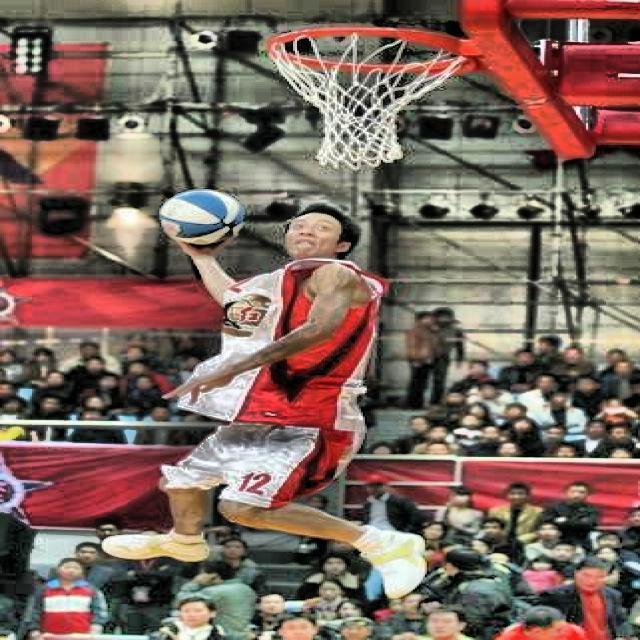board: (163, 190, 244, 245)
rim: (269, 28, 475, 168)
